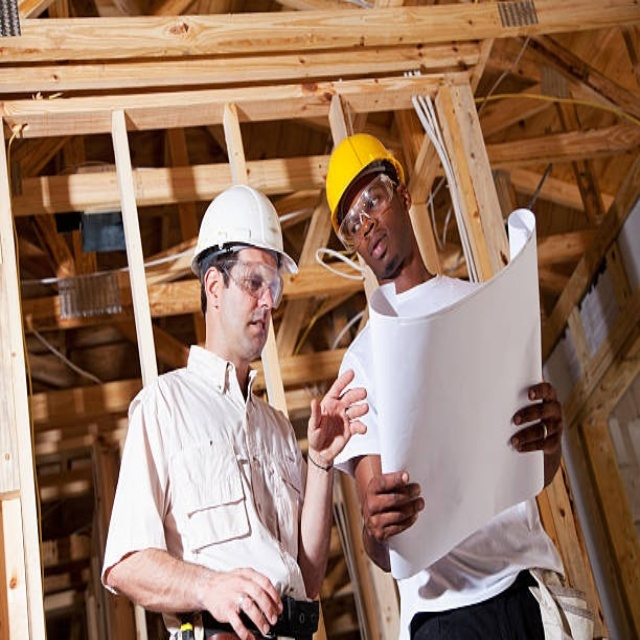Gafas: (339, 177, 397, 248), (219, 260, 284, 311)
Sin_guantes: (307, 367, 370, 471), (512, 380, 564, 483), (210, 566, 283, 635), (361, 465, 422, 546)
Sin_mascara: (364, 223, 391, 265), (239, 312, 268, 350)
